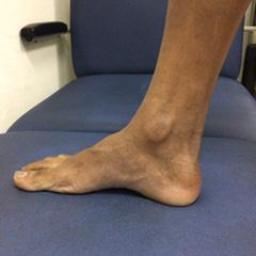Medial View -Right Foot-: (10, 98, 223, 216)
